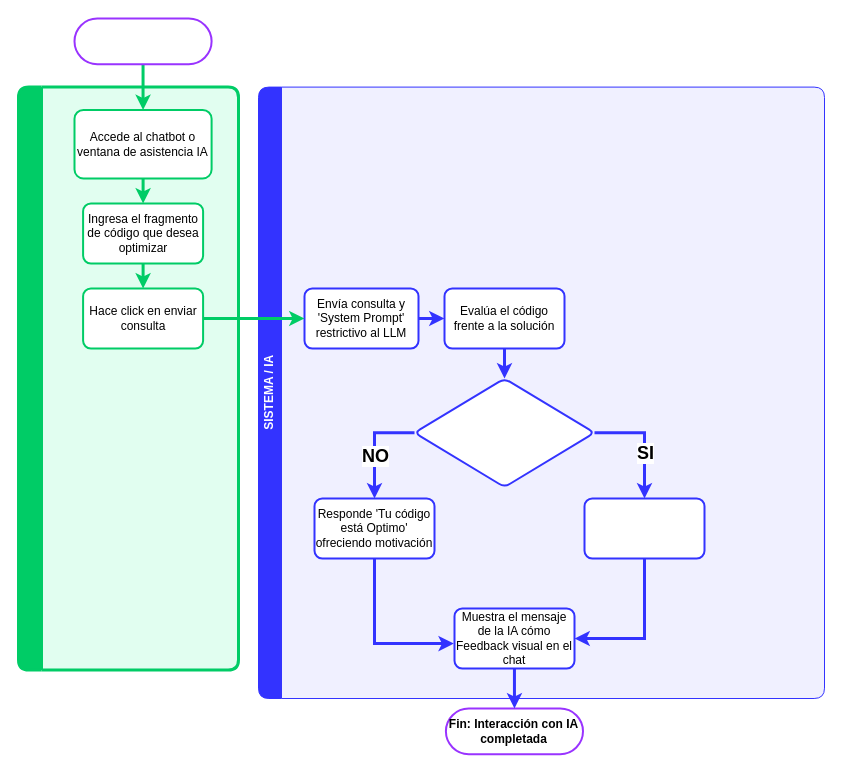
Image size: 842x772. Some labels were removed from this diagram. The shapes that lost their labels are listed below. From the top down, each one's box as (x1, y1, x2, y2) in pixels, then its label:
(73, 17, 212, 65): Inicio
(16, 85, 240, 671): USUARIO
(413, 377, 595, 488): ¿Existen mejoras espacio temporales posibles?
(583, 497, 705, 559): Genera sugerencias de mejora. No entrega respuesta final
